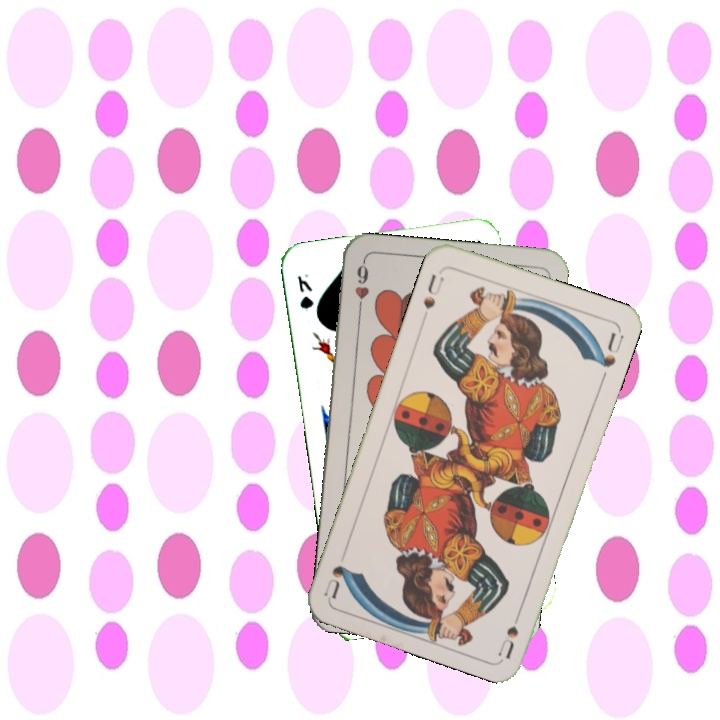GK: (293, 272, 316, 312)
H9: (351, 258, 372, 317)
SU: (494, 601, 526, 660), (418, 270, 447, 323)
